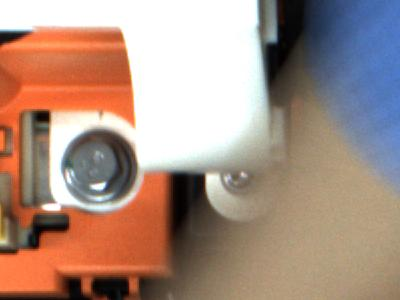nut_b: (54, 131, 137, 201)
